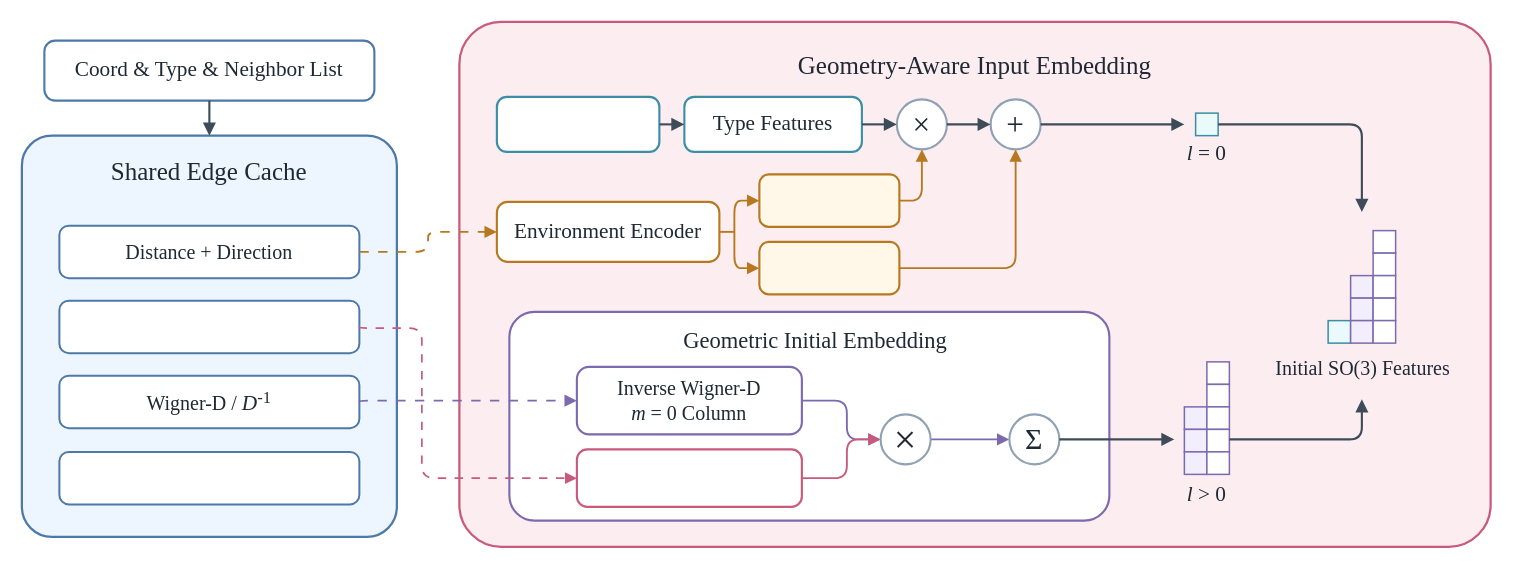
The diagram is 1514 pixels wide and 570 high, and some of its shapes have lost their labels. Each missing label, with the centre of its shape:
"Atom Type" goes at (577,123).
"Edge Type Features" goes at (209,477).
"Radial Basis + Envelope" goes at (209,326).
"Radial Features" goes at (688,477).
"Scale γ" goes at (829,200).
"Shift β" goes at (829,267).
